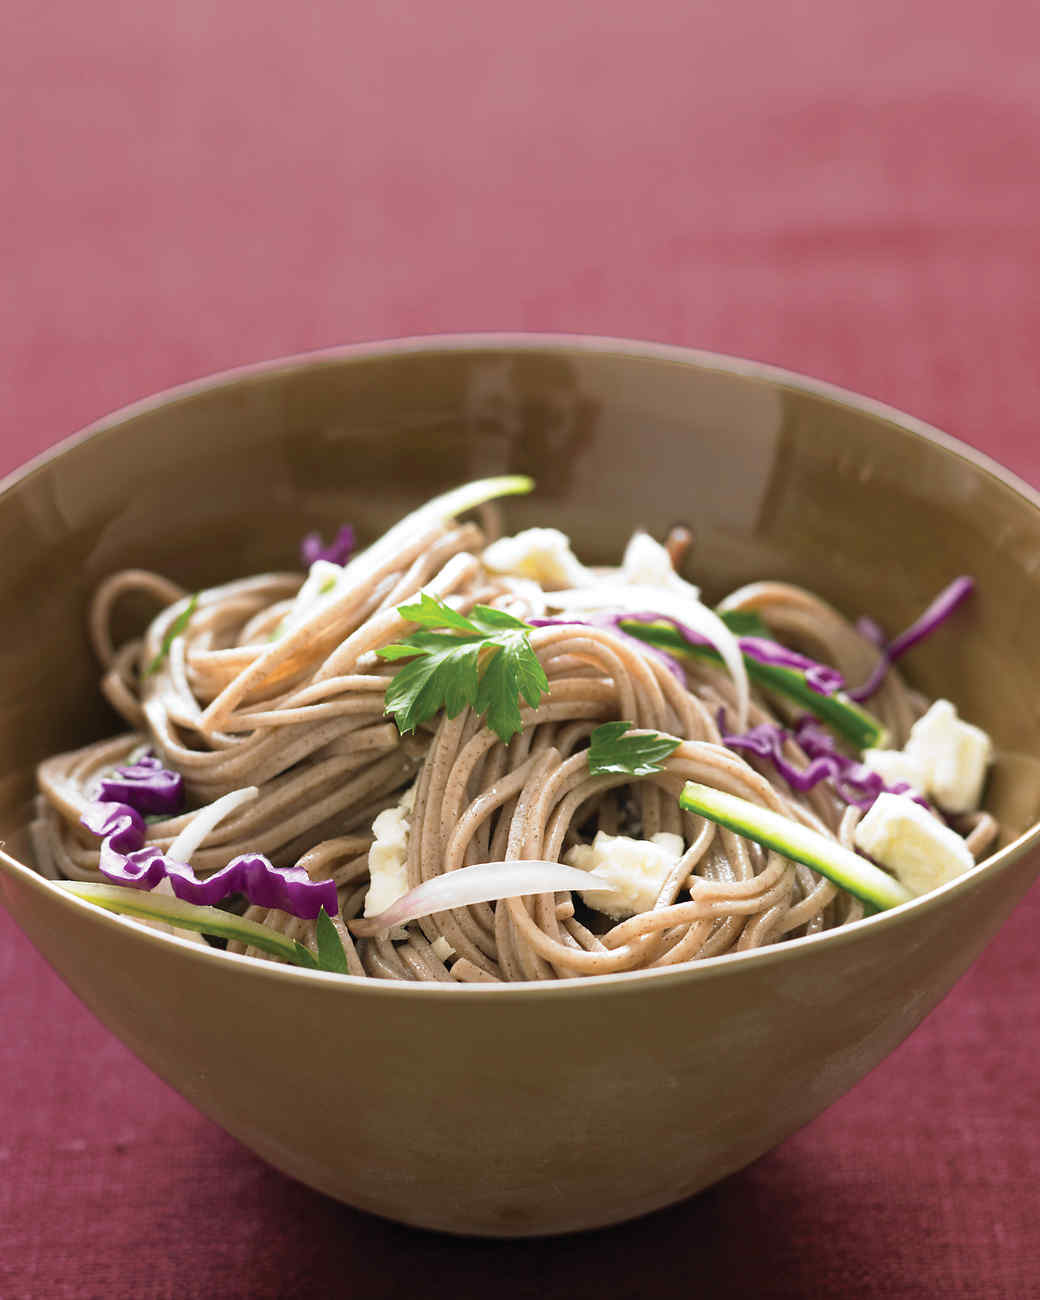Soba: (42, 503, 1035, 1017)
